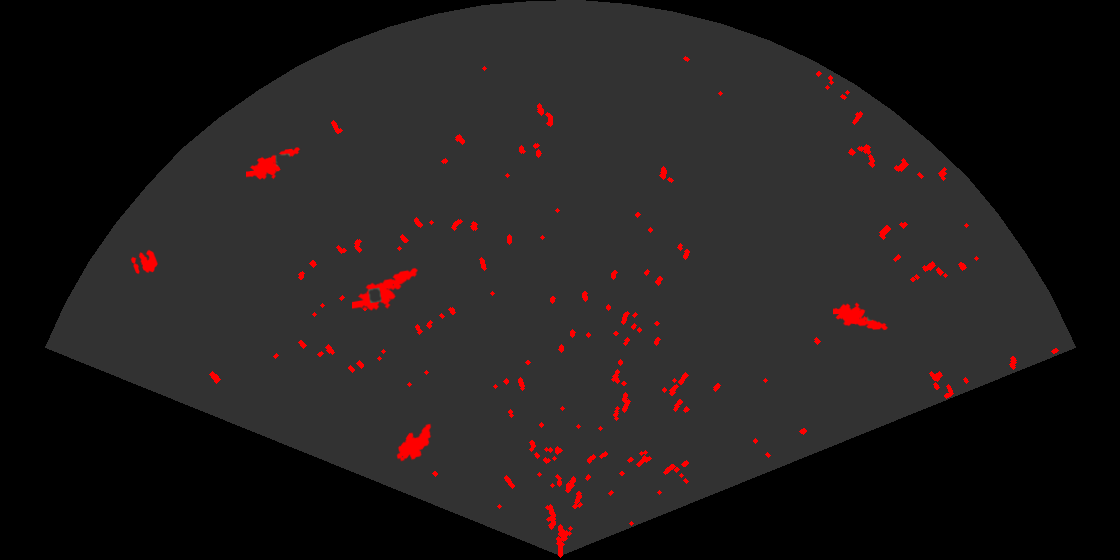AUV: (395, 422, 433, 463)
ball: (129, 248, 160, 276)
frogman: (352, 266, 420, 312), (246, 146, 302, 181), (833, 301, 889, 332)
